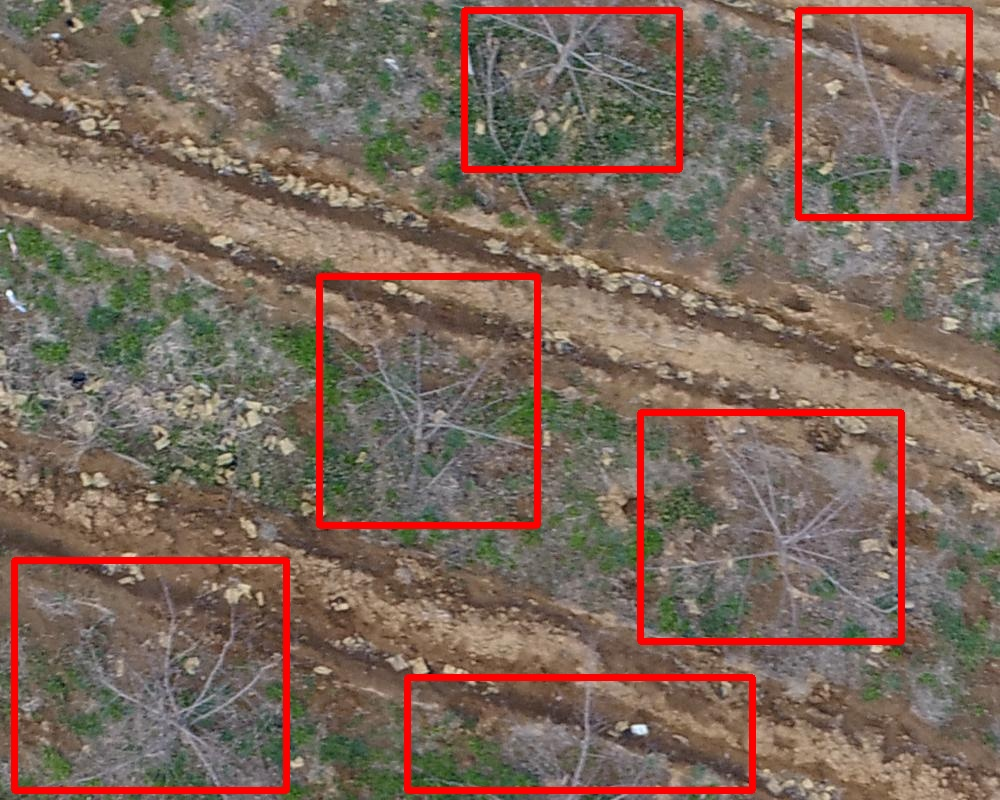apple: (14, 560, 286, 790), (640, 412, 901, 641), (319, 276, 537, 525), (407, 677, 752, 790), (798, 10, 969, 217), (464, 10, 679, 169)
